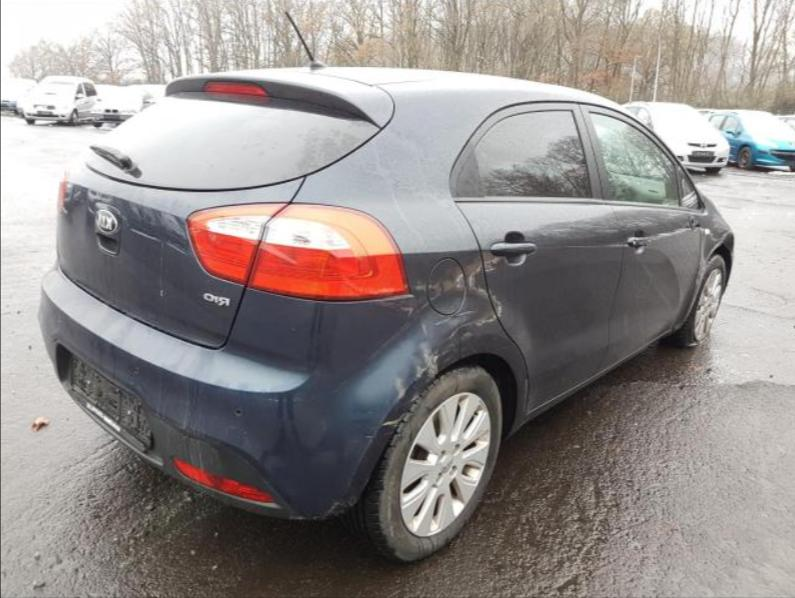Dent: (702, 213, 734, 262)
Flaking: (301, 493, 359, 523)
Missing part: (68, 357, 149, 449), (683, 206, 701, 232)
Paint chip: (413, 324, 440, 380), (447, 315, 496, 340), (462, 260, 488, 299), (428, 310, 479, 327), (428, 278, 454, 304), (381, 413, 406, 431), (489, 290, 502, 318), (484, 256, 503, 275), (393, 376, 406, 401), (399, 306, 415, 317), (411, 285, 426, 295), (408, 390, 418, 401), (417, 302, 429, 311), (456, 273, 463, 288)
Scratch: (368, 310, 420, 360), (443, 330, 479, 368), (362, 425, 379, 446), (347, 419, 369, 425), (380, 429, 393, 437), (366, 410, 380, 416)
